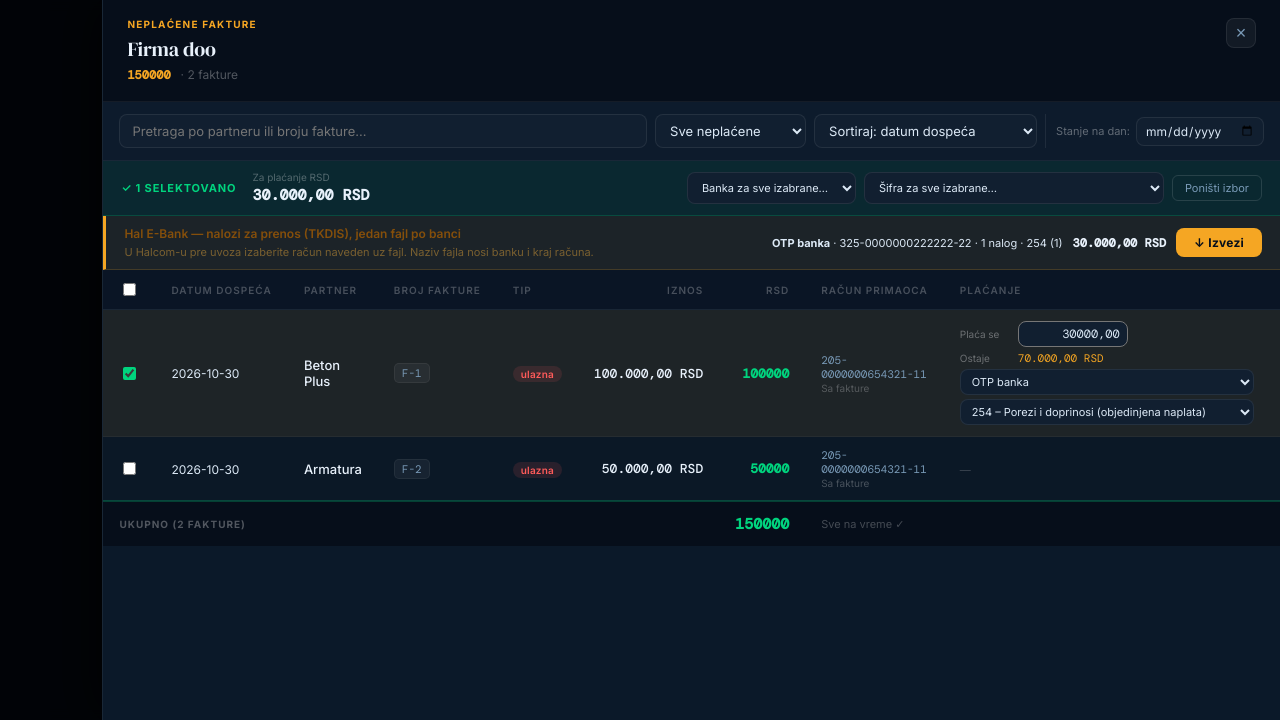
Test case: the unpaid-bills panel, extended › records the file before it downloads, and downloads nothing when that is refused
Expected: the text "Beton Plus" is shown, [304, 357, 340, 389]
Click the button "↓ Izvezi". click: (1219, 242)
box: [1176, 228, 1262, 257]
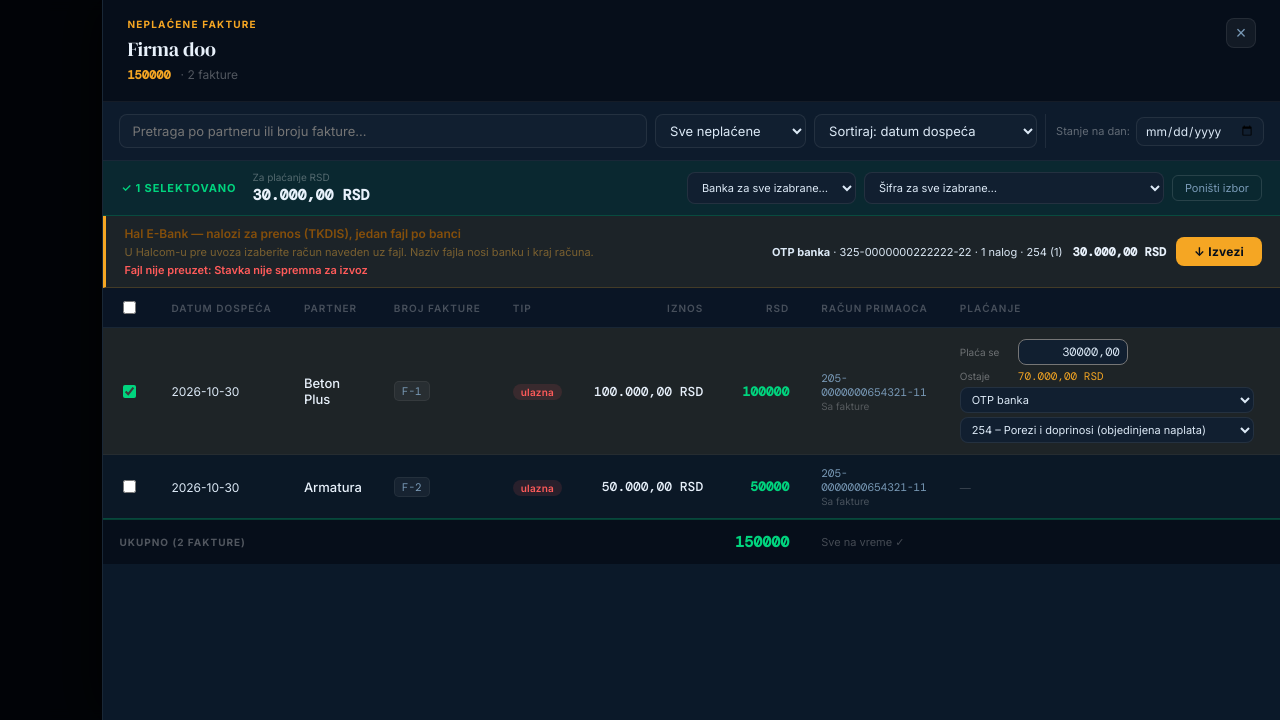
Now the message shows "Fajl nije preuzet", box [124, 263, 368, 277]
